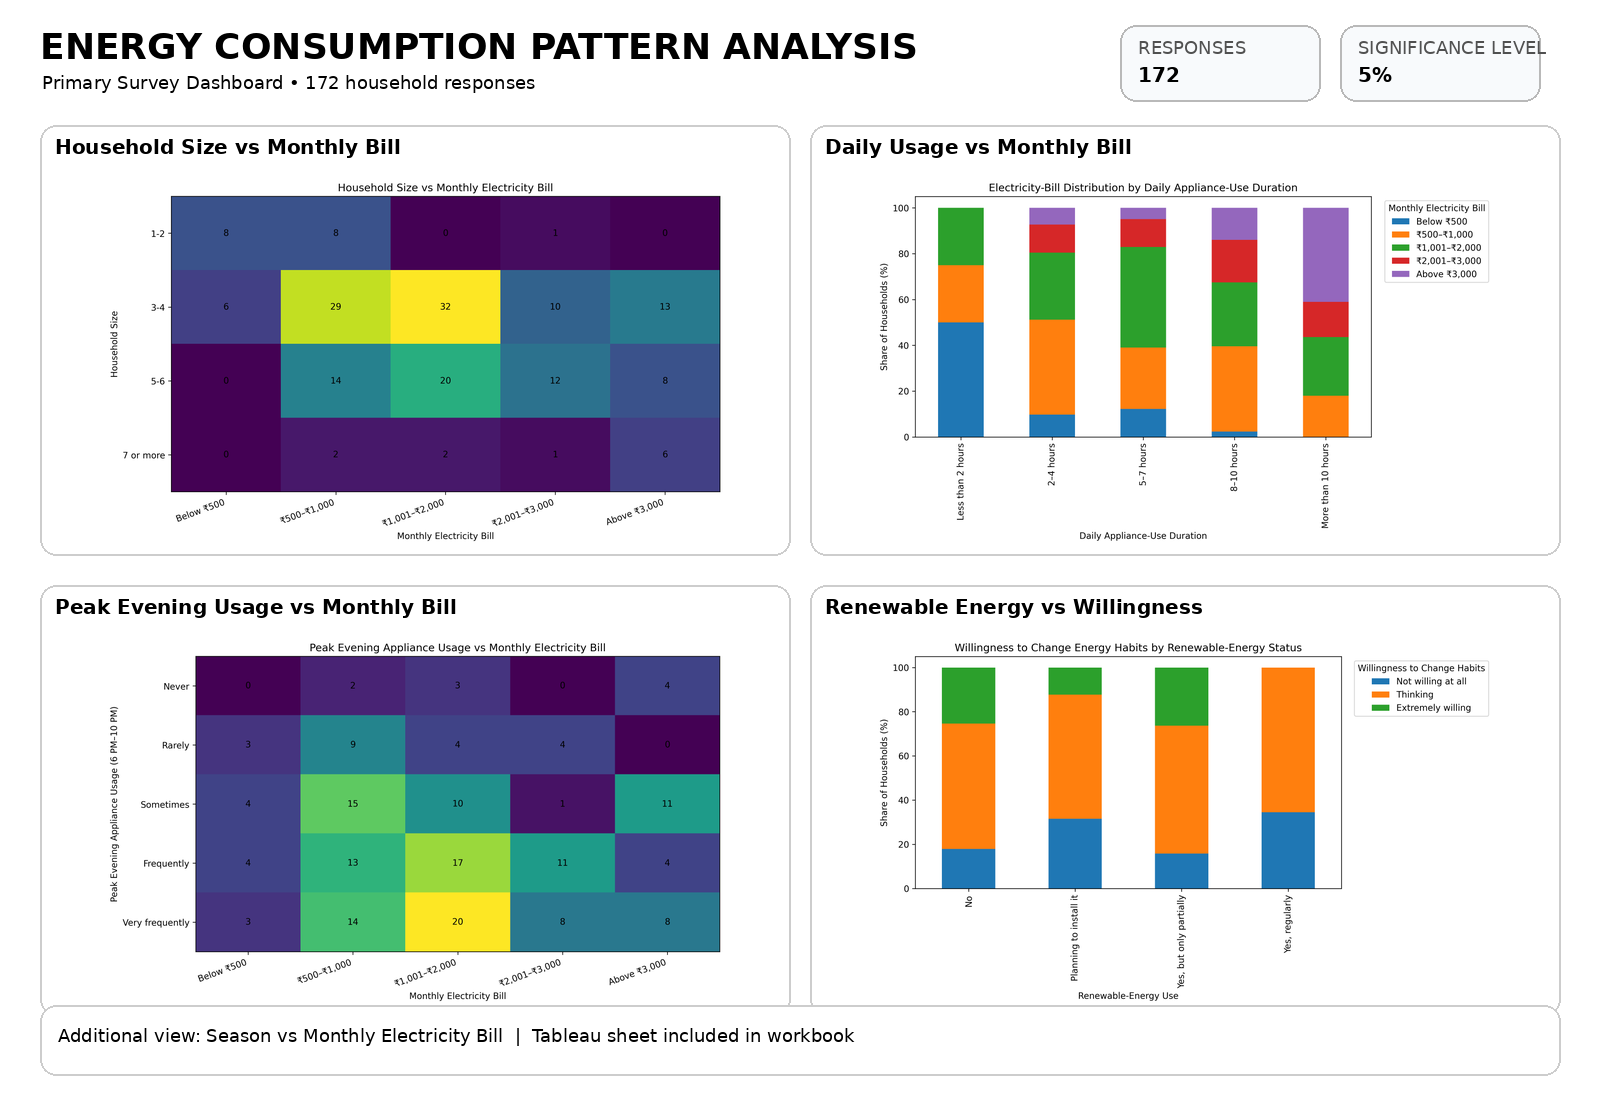

Layout of this report page (visuals, bound fields, positions):
{"tool":"tableau","page":{"name":"Energy Consumption Dashboard","canvas":[1400,1000],"ordinal":0},"visuals":[{"type":"text","box":[0,0,1400,90]},{"type":"worksheet","title":"Household Size vs Electricity Bill","mark":"Square","rows":["Household Size"],"cols":["Electricity Bill"],"box":[0,100,700,390]},{"type":"worksheet","title":"Daily Usage vs Electricity Bill","mark":"Bar","rows":["Usage Hours"],"cols":["Usage Hours"],"box":[700,100,700,390]},{"type":"worksheet","title":"Peak Evening Usage vs Electricity Bill","mark":"Square","rows":["Peak Usage"],"cols":["Electricity Bill"],"box":[0,500,700,390]},{"type":"worksheet","title":"Renewable Energy vs Willingness","mark":"Bar","rows":["Renewable Energy"],"cols":["Renewable Energy"],"box":[700,500,700,390]}]}

Visuals, with their boxes on the page's 1400x1000 design canvas (x1, y1, x2, y2). These are canvas units, not pixel positions in the 1600x1100 screenshot, which may show the page scaled, cropped or inside an application window:
text: region(0, 0, 1400, 90)
"Household Size vs Electricity Bill" worksheet (Square marks): region(0, 100, 700, 490)
"Daily Usage vs Electricity Bill" worksheet (Bar marks): region(700, 100, 1400, 490)
"Peak Evening Usage vs Electricity Bill" worksheet (Square marks): region(0, 500, 700, 890)
"Renewable Energy vs Willingness" worksheet (Bar marks): region(700, 500, 1400, 890)
